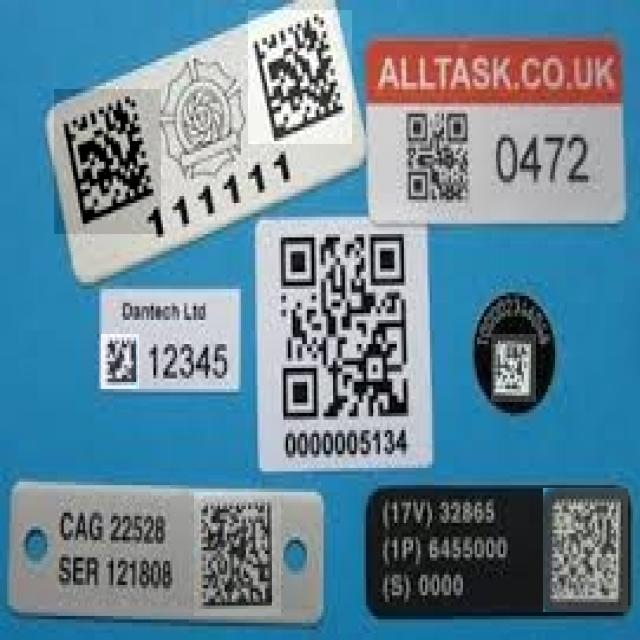DataMatrix: (54, 89, 161, 234), (248, 10, 352, 144), (194, 492, 281, 616), (543, 488, 628, 612), (491, 334, 536, 402), (102, 334, 140, 389)
